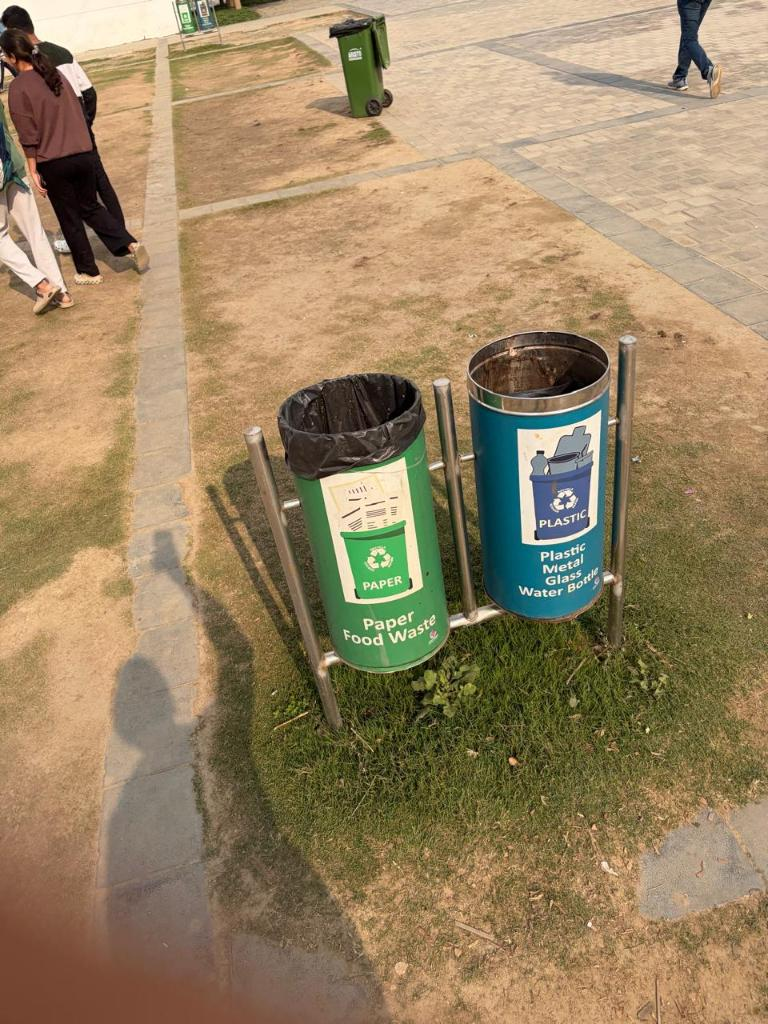dustbin: (222, 337, 661, 708)
